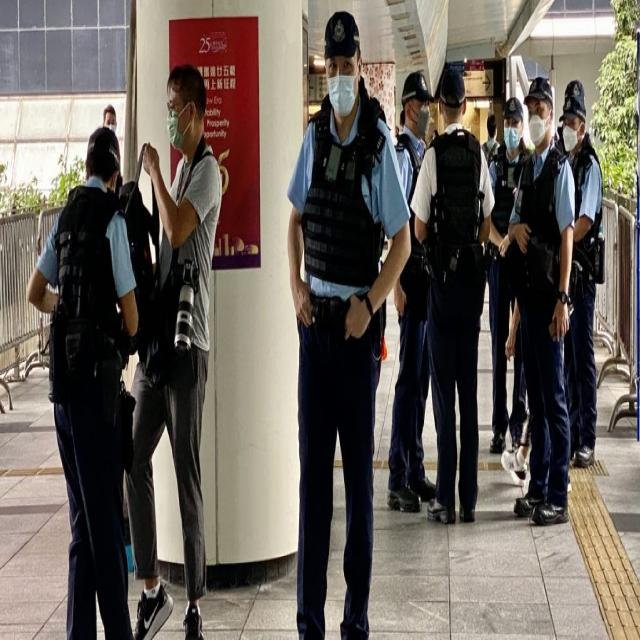police: (256, 0, 382, 640), (28, 119, 145, 640), (415, 57, 489, 523), (393, 51, 446, 525), (517, 70, 570, 540), (562, 70, 614, 470), (487, 75, 536, 470)
